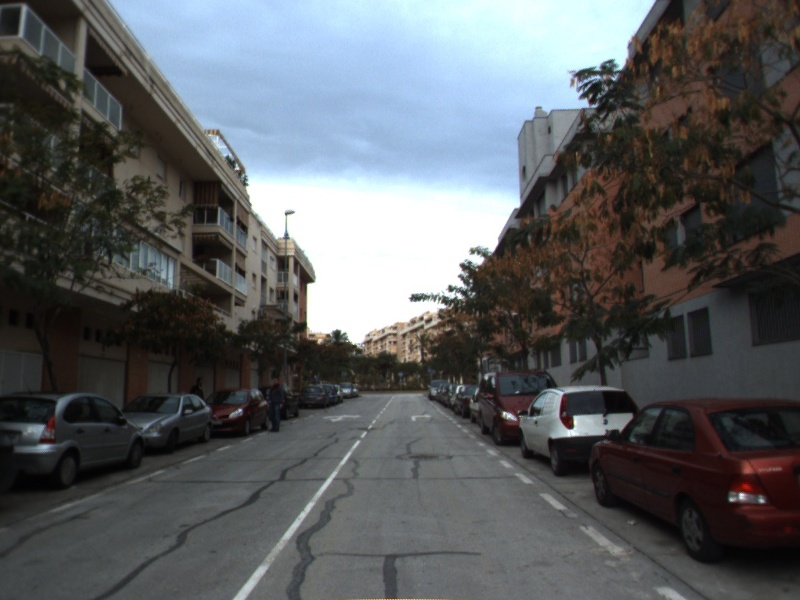RIGHT: (408, 411, 435, 423)
